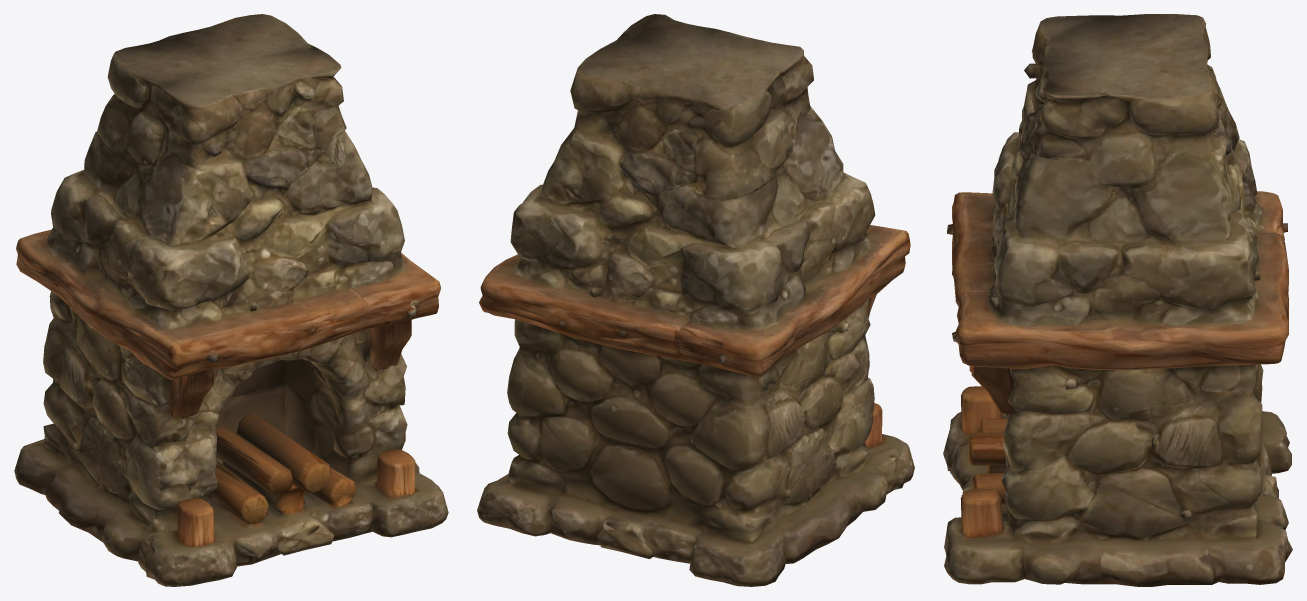
Rendered from fireplace.glb.
3 views of the same model, side by side, from view 1: azimuth 30°, elevation 25°; view 2: azimuth 150°, elevation 25°; view 3: azimuth 270°, elevation 25° (orthographic). The views are drawn at different scales.
Visible parts, largest first — view 1: tripo_node_fd53025d-b5a7-44f2-b20a-ed46333b245b; view 2: tripo_node_fd53025d-b5a7-44f2-b20a-ed46333b245b; view 3: tripo_node_fd53025d-b5a7-44f2-b20a-ed46333b245b.
Part boxes in pixels (left/top/right/bottom): tripo_node_fd53025d-b5a7-44f2-b20a-ed46333b245b: left=14, top=14, right=448, bottom=586; tripo_node_fd53025d-b5a7-44f2-b20a-ed46333b245b: left=477, top=14, right=914, bottom=586; tripo_node_fd53025d-b5a7-44f2-b20a-ed46333b245b: left=943, top=14, right=1292, bottom=586.
Bounding box in the file's own units: 0.7261 × 0.9791 × 0.6801.
1 material, 1 textured.
